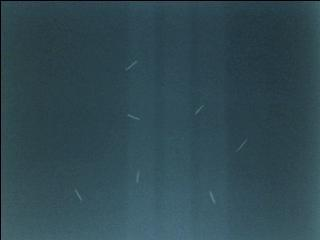scratch: (134, 166, 149, 189), (231, 134, 249, 153), (192, 102, 208, 119), (124, 57, 139, 72), (122, 111, 142, 122), (207, 188, 218, 206), (72, 186, 84, 202)
